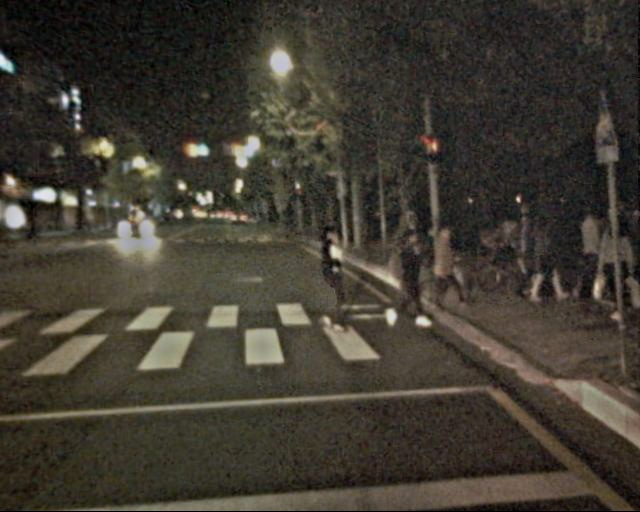person: (498, 203, 562, 304), (308, 223, 354, 336), (572, 201, 614, 303), (599, 223, 640, 325), (388, 227, 429, 328), (428, 225, 465, 315)
